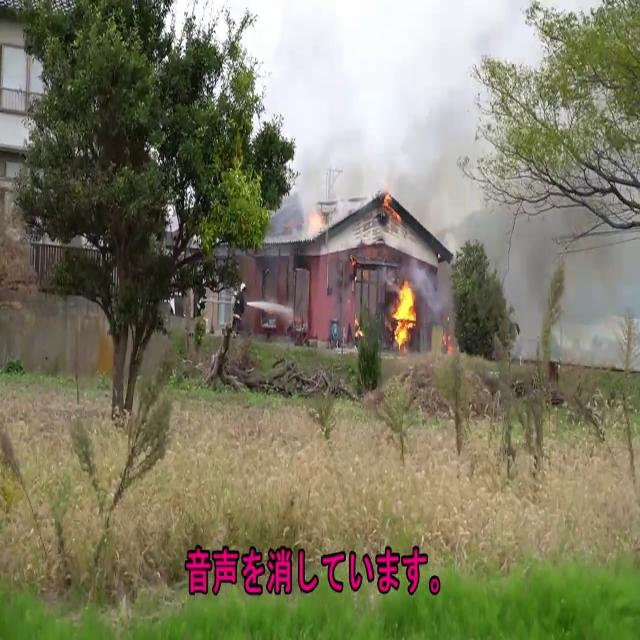Fire: (388, 278, 419, 348)
Smoke: (383, 62, 609, 366)
